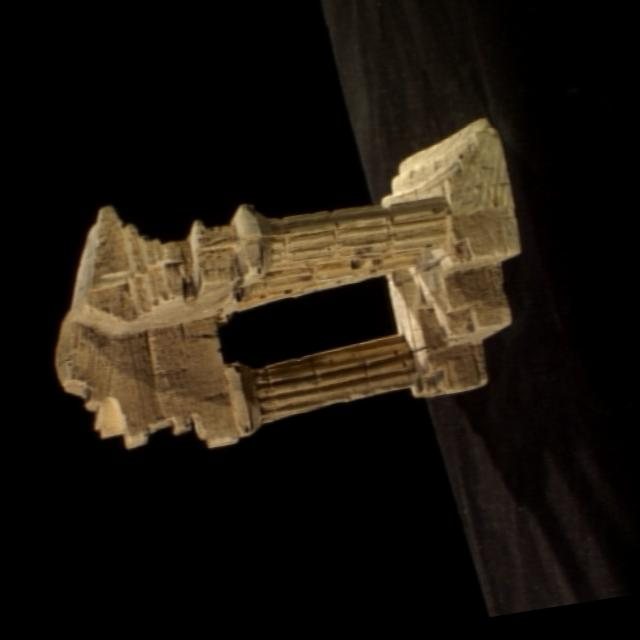Instance-Segmentation: (55, 118, 518, 445)
